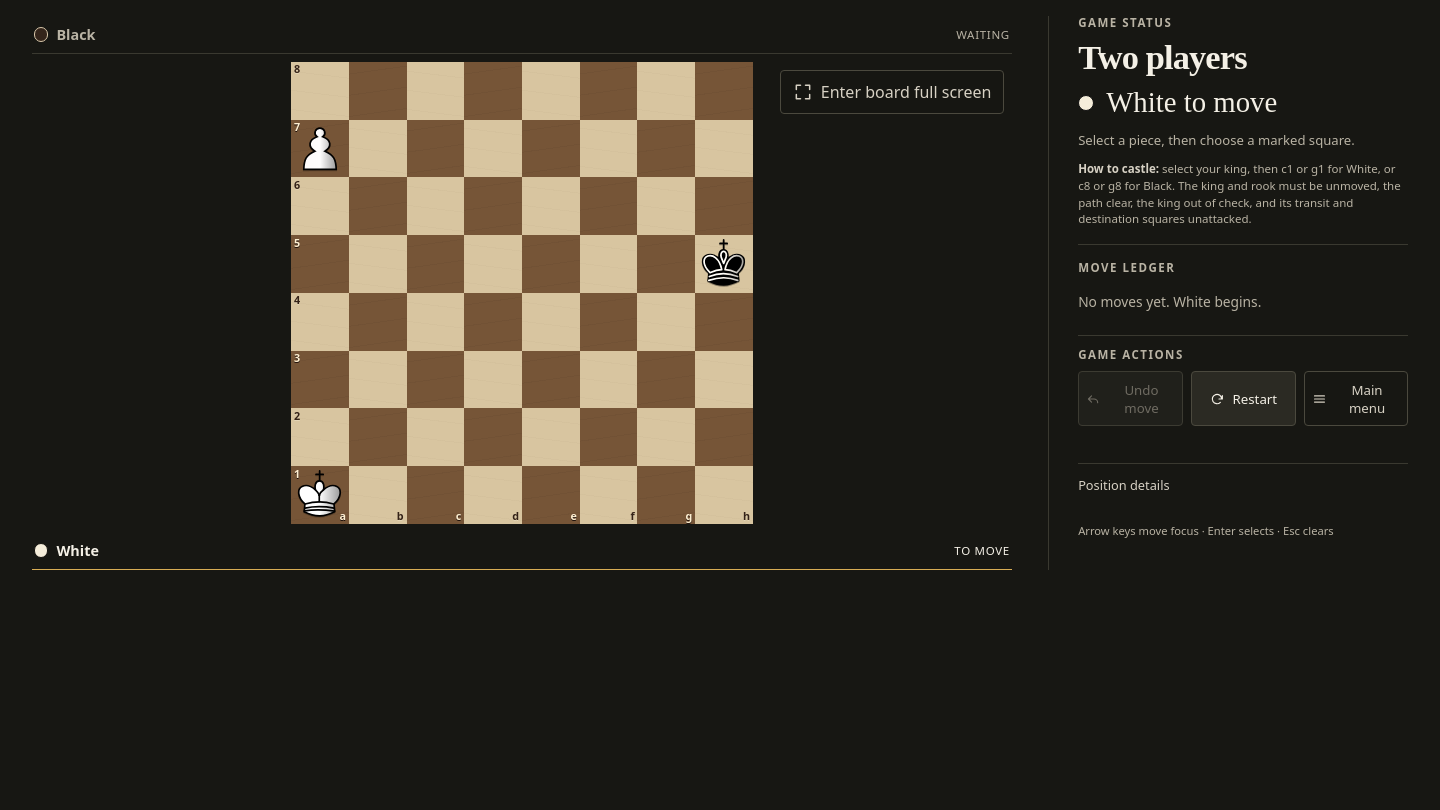
Test: two-player game screen › keeps promotion inside the fullscreen stage and restores square focus
Click the button "Enter board full screen" at {"x": 892, "y": 92}, box [780,70,1004,114]
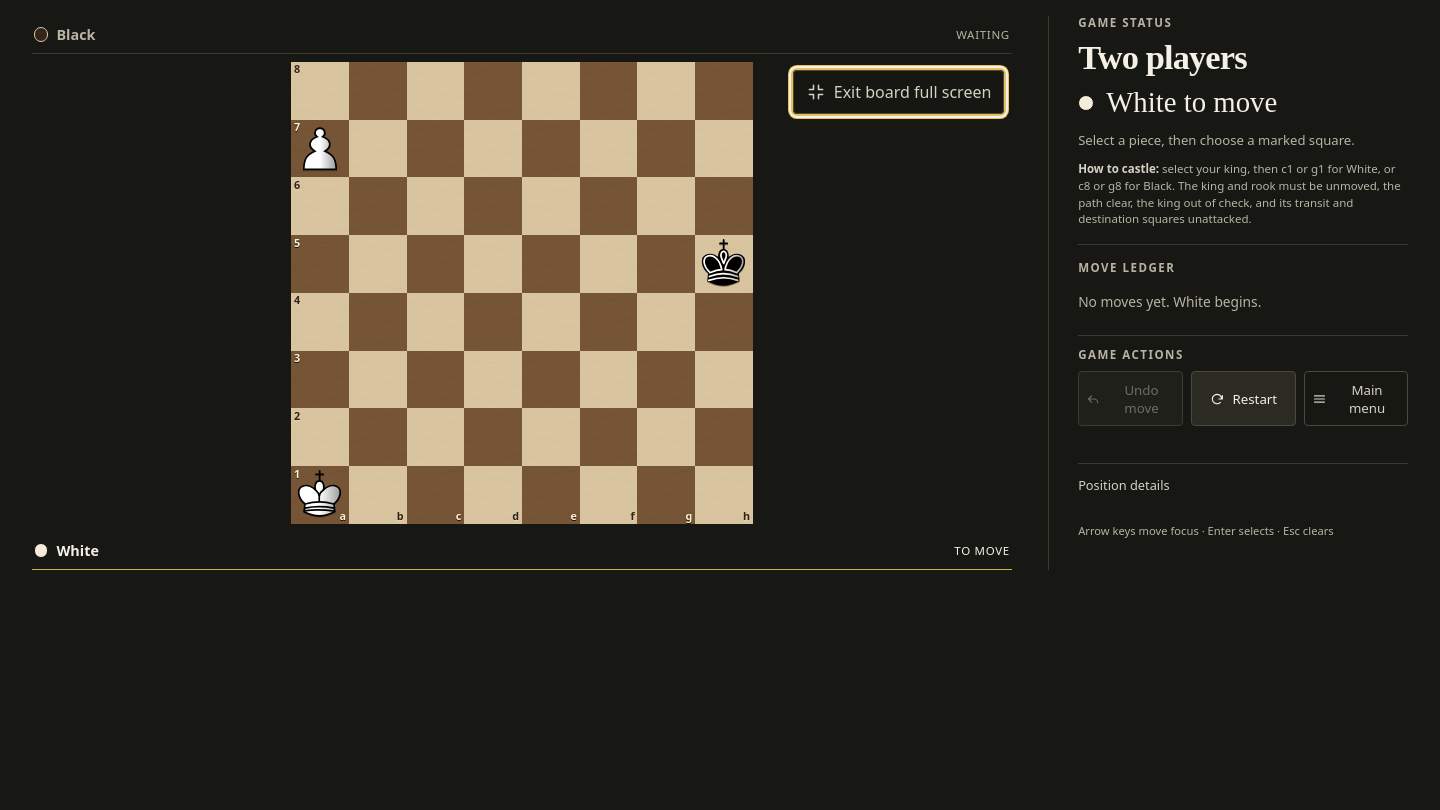
Click the button "7" at {"x": 320, "y": 149}, box [291,120,349,177]
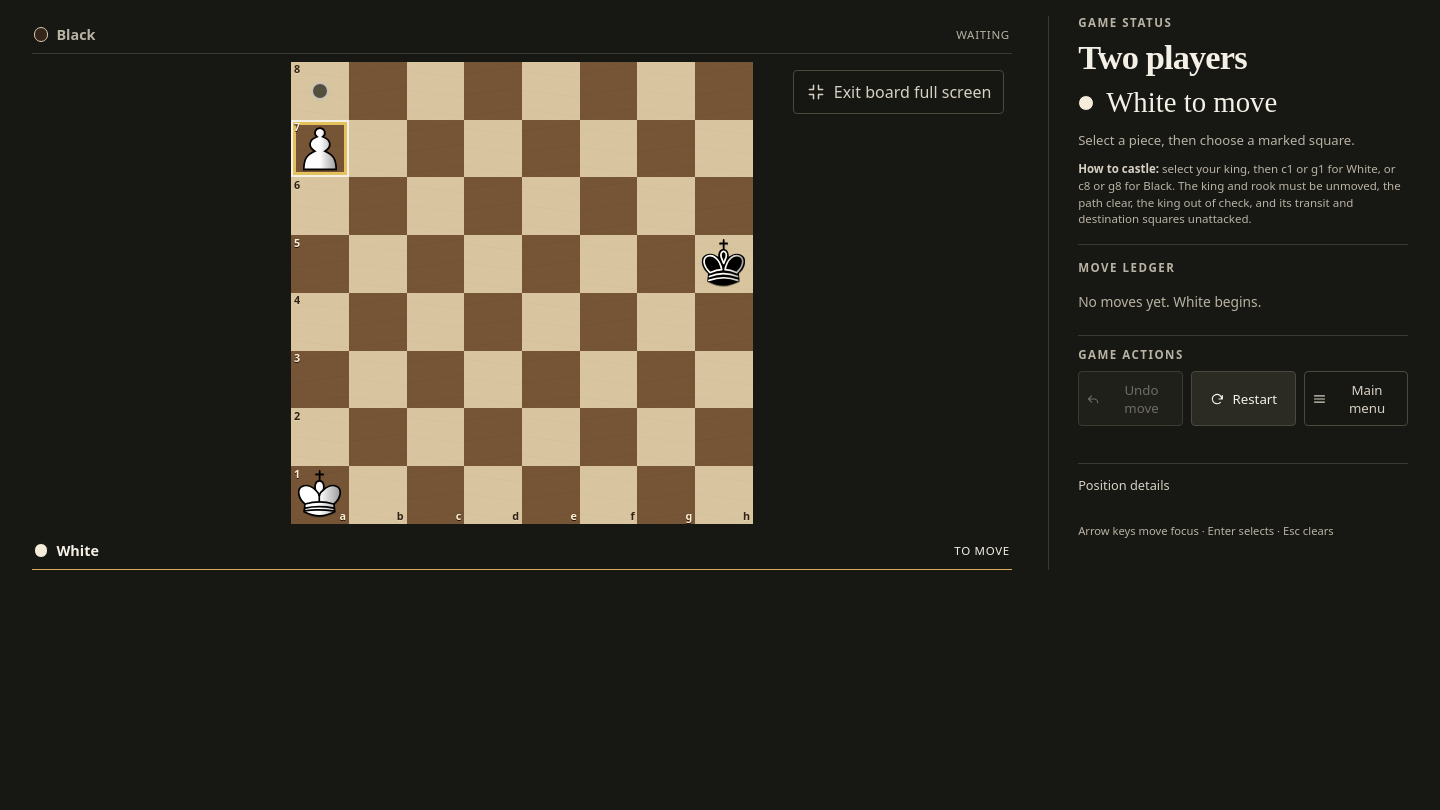
Click the button "8" at {"x": 320, "y": 91}, box [291,62,349,120]
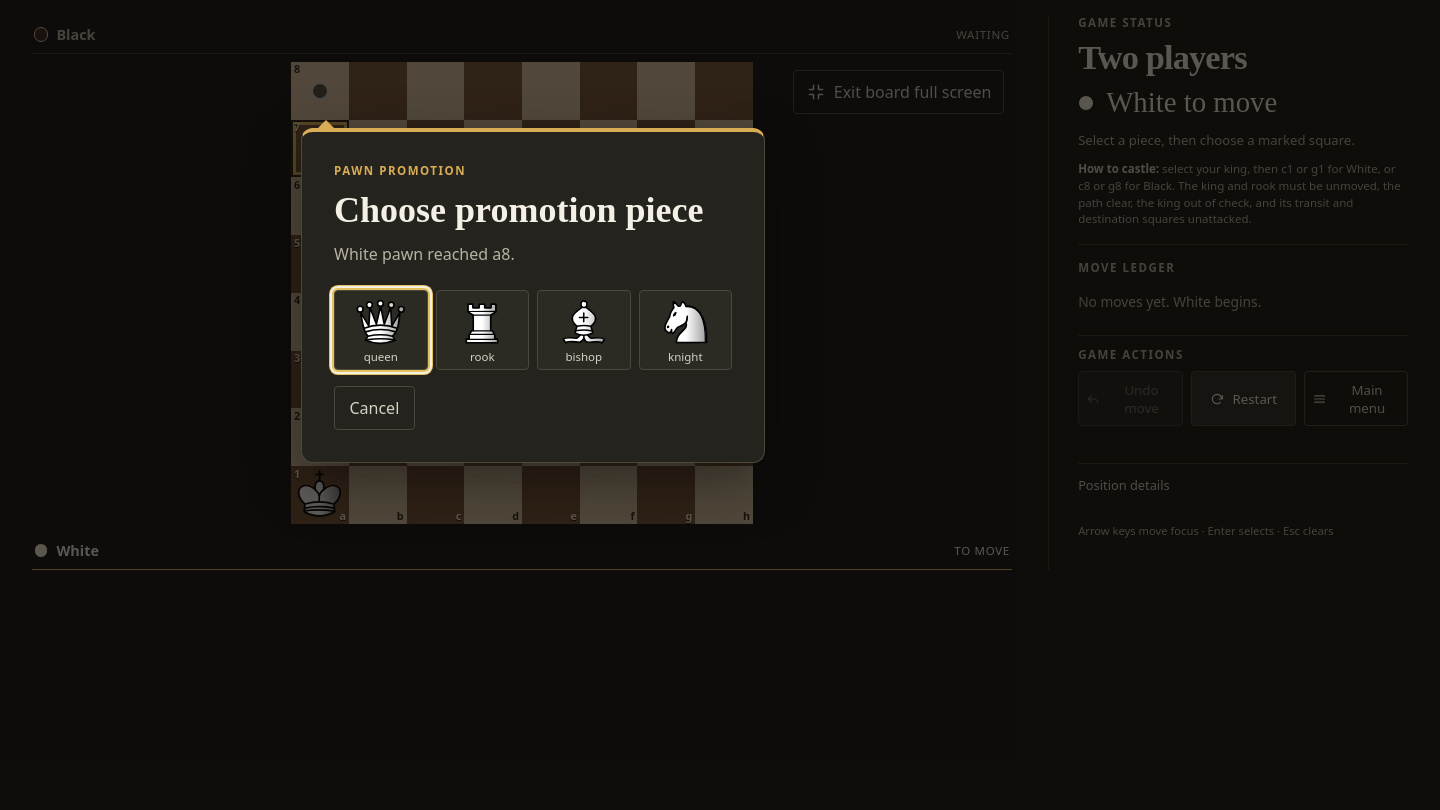
Click the button "rook" at {"x": 482, "y": 330}, box [436,290,529,370]
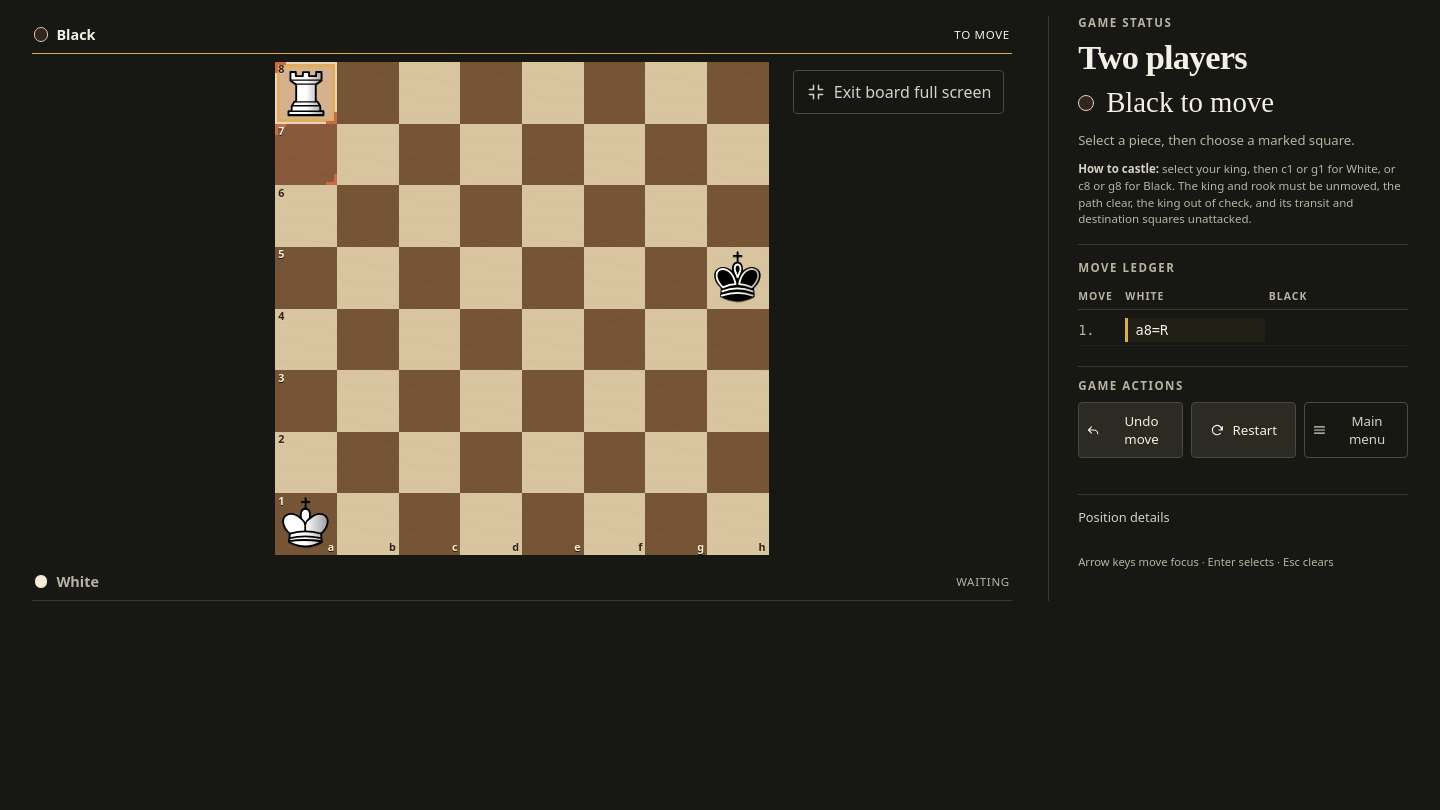
Check: the text "a8=R" is shown, box [1125,318,1265,342]
